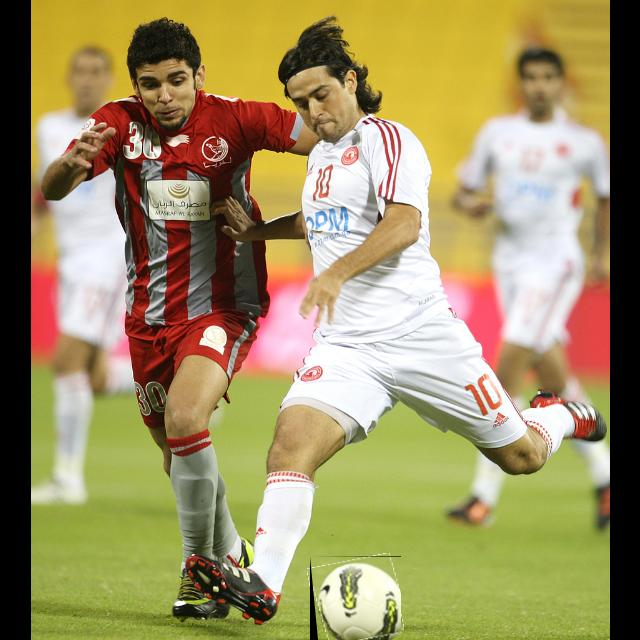Football: (310, 556, 401, 640)
